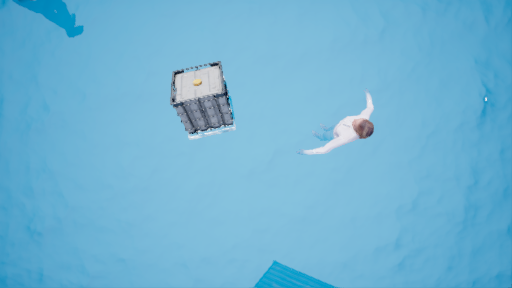person: (298, 97, 383, 156)
